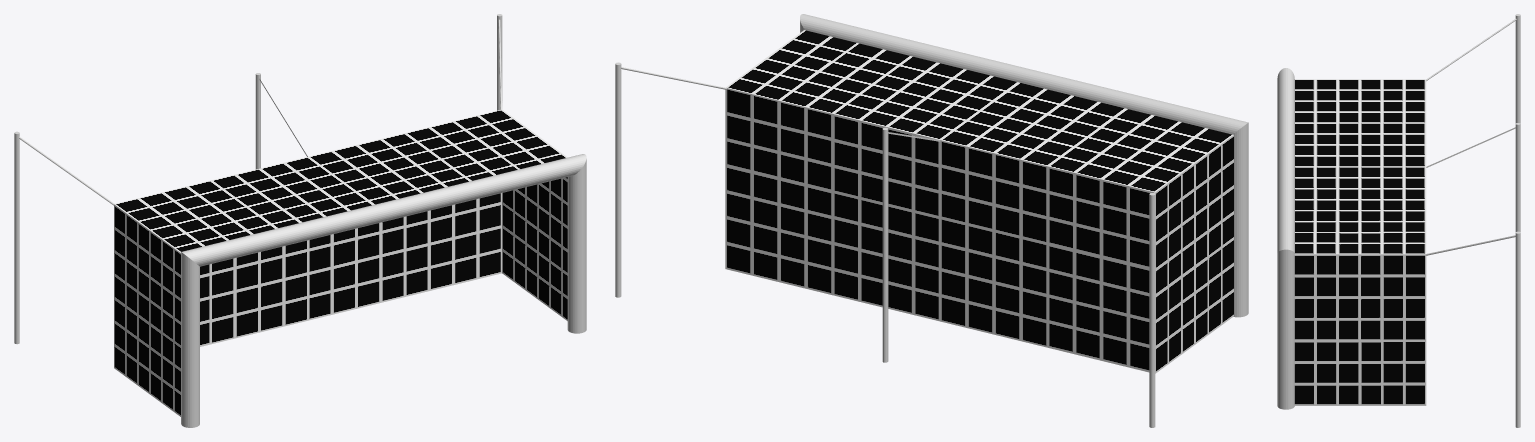
Rendered from goal.fbx.
The picture shows the model from 3 angles, left to right: view 1: azimuth 30°, elevation 25°; view 2: azimuth 150°, elevation 25°; view 3: azimuth 270°, elevation 25°; orthographic projection. The views are drawn at different scales.
Visible parts, largest first — view 1: Plane, Cylinder, Cylinder.001; view 2: Plane, Cylinder, Cylinder.001; view 3: Plane, Cylinder, Cylinder.001.
Part boxes in pixels (<box>): Plane: <box>114,109,567,416</box>; Cylinder: <box>181,154,586,427</box>; Cylinder.001: <box>14,14,502,344</box>; Plane: <box>725,30,1233,373</box>; Cylinder: <box>800,14,1248,317</box>; Cylinder.001: <box>615,62,1155,427</box>; Plane: <box>1294,79,1426,405</box>; Cylinder: <box>1277,68,1294,409</box>; Cylinder.001: <box>1426,14,1520,427</box>.
Size of the model in its own units: 5952 by 2463 by 2784.
